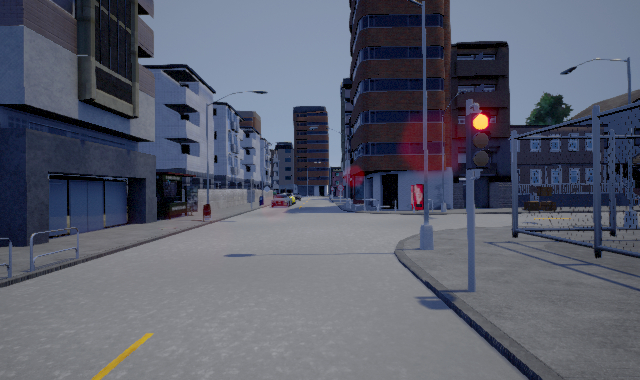traffic_light: (465, 109, 492, 170)
traffic_sign: (337, 183, 344, 190)
vehicle: (271, 193, 292, 205)
